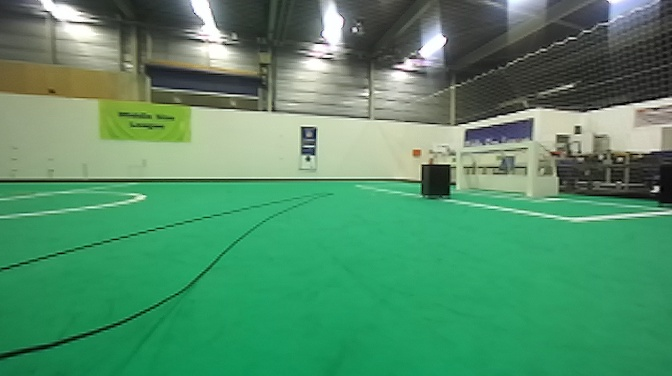goalpost: (522, 140, 535, 199), (451, 149, 466, 195)
